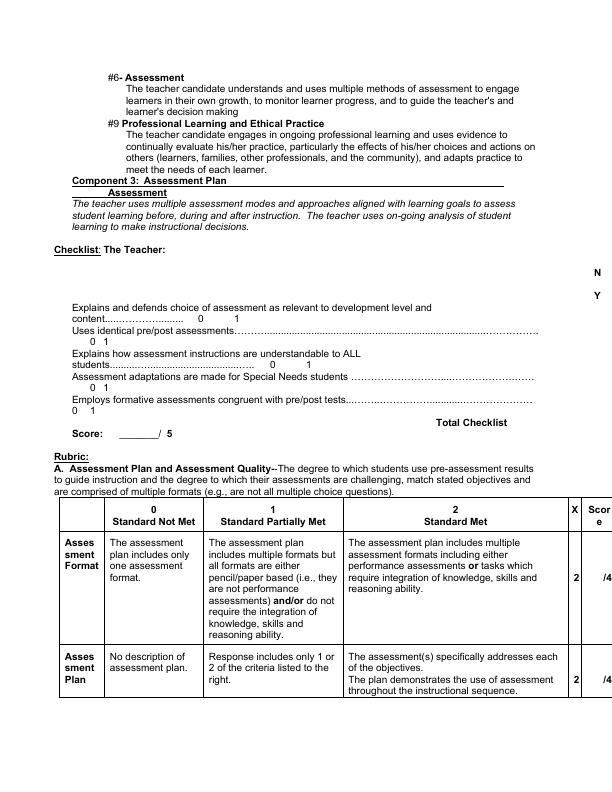input: (114, 429, 159, 442)
table: (55, 494, 612, 715)
text: (67, 298, 540, 415), (100, 69, 540, 176), (48, 449, 541, 496), (70, 198, 522, 236), (52, 242, 168, 260), (430, 417, 517, 432), (66, 426, 106, 440), (160, 422, 180, 439)
